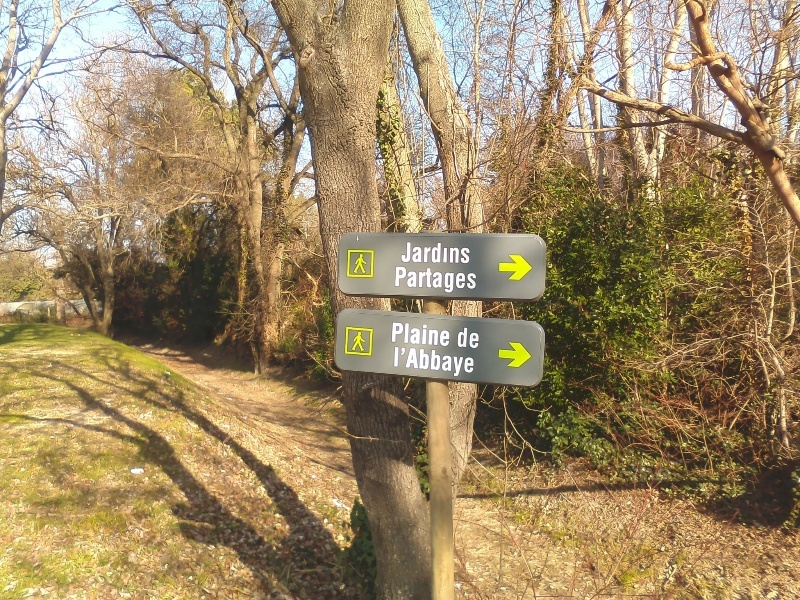text: (465, 345, 481, 380), (401, 345, 416, 380), (417, 345, 432, 380), (433, 345, 448, 380), (449, 345, 464, 380), (401, 266, 416, 295), (417, 266, 432, 295), (433, 266, 448, 295), (449, 266, 464, 295), (401, 320, 416, 347), (417, 320, 432, 347), (433, 320, 448, 347), (465, 326, 481, 350), (465, 266, 477, 295), (401, 242, 416, 265), (417, 242, 432, 265), (433, 242, 448, 265), (449, 242, 464, 265), (392, 320, 400, 347), (395, 345, 400, 380), (394, 266, 400, 295), (458, 326, 464, 350), (465, 242, 471, 265), (449, 320, 451, 347)
